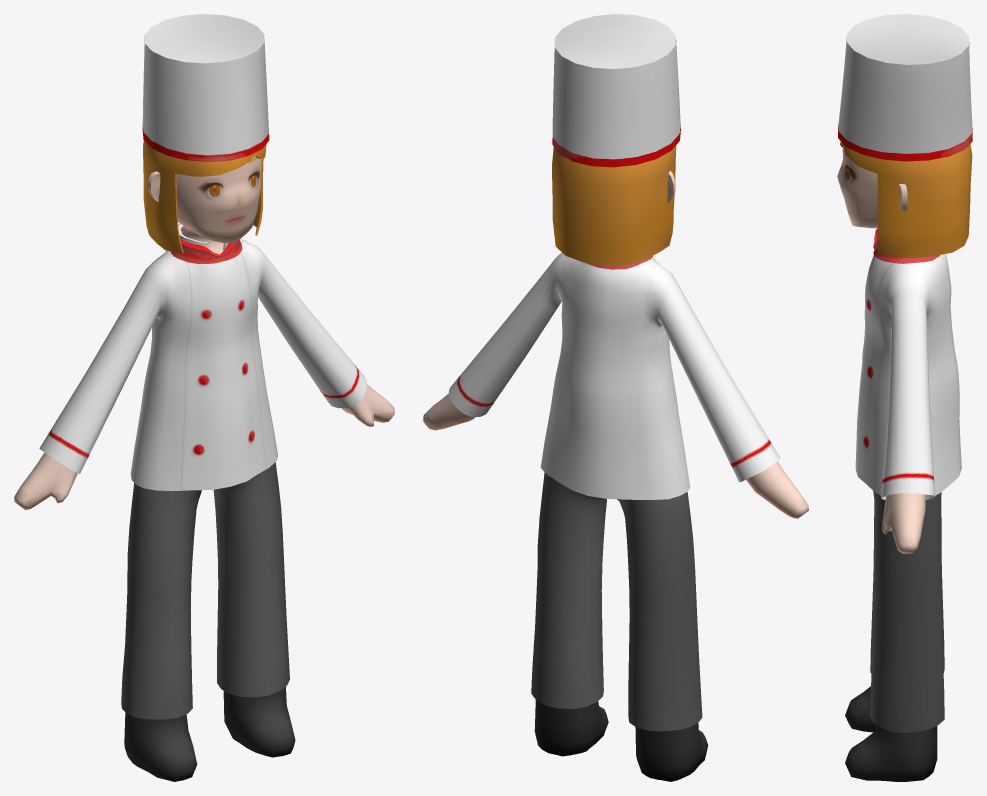
The picture shows the model from 3 angles, left to right: view 1: azimuth 30°, elevation 25°; view 2: azimuth 150°, elevation 25°; view 3: azimuth 270°, elevation 25°; orthographic projection.
Visible parts, largest first — view 1: Object010, Object008, Cylinder002, Box020, Box005, Object009; view 2: Object010, Object008, Cylinder002, Box005, Box020; view 3: Object010, Cylinder002, Object008, Box020, Box005, Object009.
Boxes of the visible parts, box(x1,y1,x2,y2) form: Object010: box(39, 224, 366, 491); Object008: box(121, 462, 289, 719); Cylinder002: box(142, 14, 269, 161); Box020: box(14, 156, 394, 781); Box005: box(143, 140, 266, 253); Object009: box(170, 224, 242, 263); Object010: box(448, 253, 780, 499); Object008: box(531, 472, 702, 731); Cylinder002: box(552, 14, 680, 167); Box005: box(552, 145, 676, 265); Box020: box(423, 170, 808, 781); Object010: box(855, 254, 961, 499); Cylinder002: box(838, 14, 972, 161); Object008: box(870, 491, 944, 732); Box020: box(837, 147, 937, 781); Box005: box(840, 141, 972, 257); Object009: box(873, 228, 939, 263).
Size of the model in its own units: 85.36 by 26.56 by 154.
Materials: 6 (6 with a texture image).
